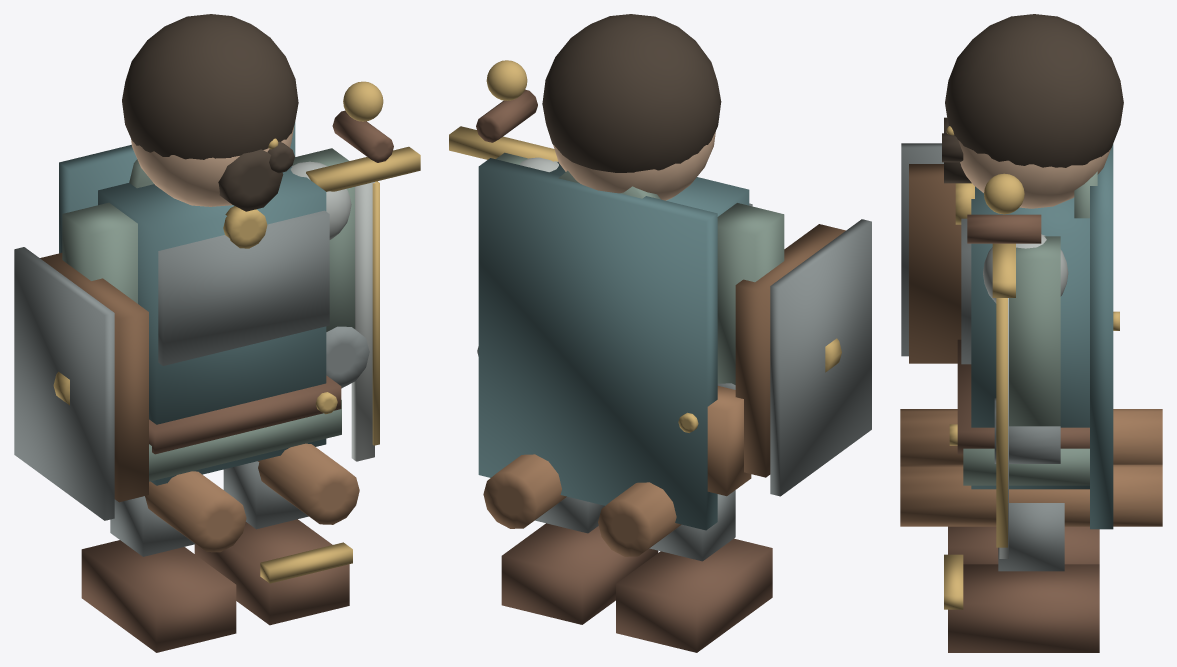
Rendered from hero.glb.
3 views of the same model, side by side, from view 1: azimuth 30°, elevation 25°; view 2: azimuth 150°, elevation 25°; view 3: azimuth 270°, elevation 25° (orthographic).
Parts seen in each view (by area): view 1: ShieldRim, Hair, Body, Chestplate, Boot_L, Boot_R, Shield, Arm_L, Belt, Leg_L, Leg_R, TunicHem (+16 smaller); view 2: Cloak, Hair, ShieldRim, Boot_L, Boot_R, Shield, Arm_L, Leg_R, Leg_L, Satchel, Head, Greave_L (+5 smaller); view 3: Hair, Boot_R, Body, Leg_R, Shield, Arm_R, Cloak, Leg_L, Head, Greave_R, TunicHem, Boot_L (+14 smaller).
Boxes of the visible parts, left/top/right/bottom form: ShieldRim: left=14, top=247, right=114, bottom=520; Hair: left=122, top=14, right=298, bottom=159; Body: left=98, top=166, right=326, bottom=485; Chestplate: left=158, top=210, right=329, bottom=365; Boot_L: left=81, top=540, right=236, bottom=652; Boot_R: left=194, top=519, right=349, bottom=625; Shield: left=40, top=253, right=148, bottom=502; Arm_L: left=62, top=202, right=137, bottom=303; Belt: left=149, top=375, right=341, bottom=454; Leg_L: left=145, top=471, right=246, bottom=552; Leg_R: left=258, top=443, right=359, bottom=524; TunicHem: left=149, top=400, right=341, bottom=481; Cloak: left=478, top=158, right=717, bottom=530; Hair: left=542, top=14, right=721, bottom=172; ShieldRim: left=770, top=219, right=871, bottom=496; Boot_L: left=616, top=538, right=772, bottom=652; Boot_R: left=501, top=523, right=658, bottom=624; Shield: left=735, top=224, right=845, bottom=477; Arm_L: left=717, top=203, right=784, bottom=384; Leg_R: left=483, top=454, right=566, bottom=528; Leg_L: left=598, top=482, right=681, bottom=556; Satchel: left=707, top=386, right=751, bottom=496; Head: left=553, top=132, right=715, bottom=200; Greave_L: left=649, top=490, right=735, bottom=561; Hair: left=945, top=14, right=1123, bottom=167; Boot_R: left=948, top=564, right=1099, bottom=652; Body: left=971, top=186, right=1089, bottom=489; Leg_R: left=900, top=464, right=1162, bottom=526; Shield: left=909, top=164, right=961, bottom=363; Arm_R: left=1009, top=236, right=1060, bottom=426; Cloak: left=1090, top=144, right=1113, bottom=529; Leg_L: left=900, top=409, right=1162, bottom=464; Head: left=958, top=140, right=1110, bottom=208; Greave_R: left=998, top=503, right=1064, bottom=571; TunicHem: left=963, top=448, right=1089, bottom=485; Boot_L: left=948, top=526, right=1099, bottom=564.
Size of the model in its own units: 2.2 by 3.31 by 1.35.
